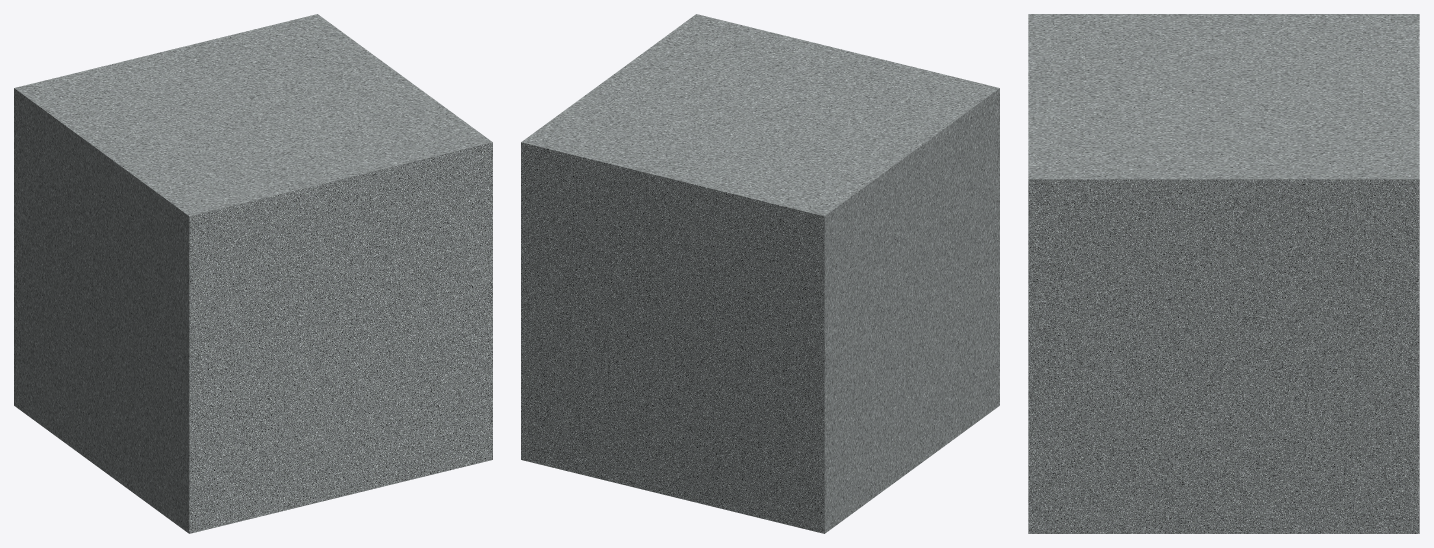
File: stone.obj
3 views of the same model, side by side, from view 1: azimuth 30°, elevation 25°; view 2: azimuth 150°, elevation 25°; view 3: azimuth 270°, elevation 25° (orthographic). The views are drawn at different scales.
Visible parts, largest first — view 1: Cube; view 2: Cube; view 3: Cube.
Boxes of the visible parts, <box> form: Cube: <box>14,14,492,533</box>; Cube: <box>521,14,999,533</box>; Cube: <box>1028,14,1419,533</box>.
Size of the model in its own units: 0.8838 by 0.8838 by 0.8838.
1 material, 1 textured.
